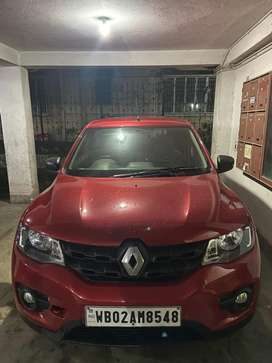WB02AM8548: (85, 305, 180, 326)
